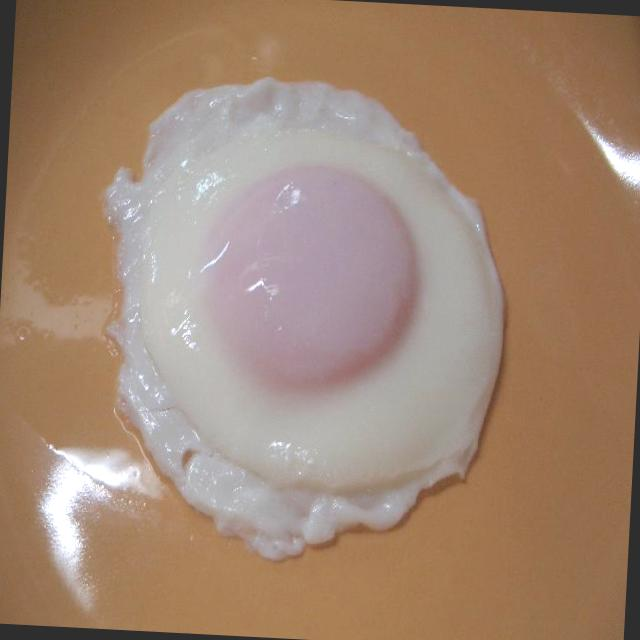Egg: (85, 66, 527, 569)
